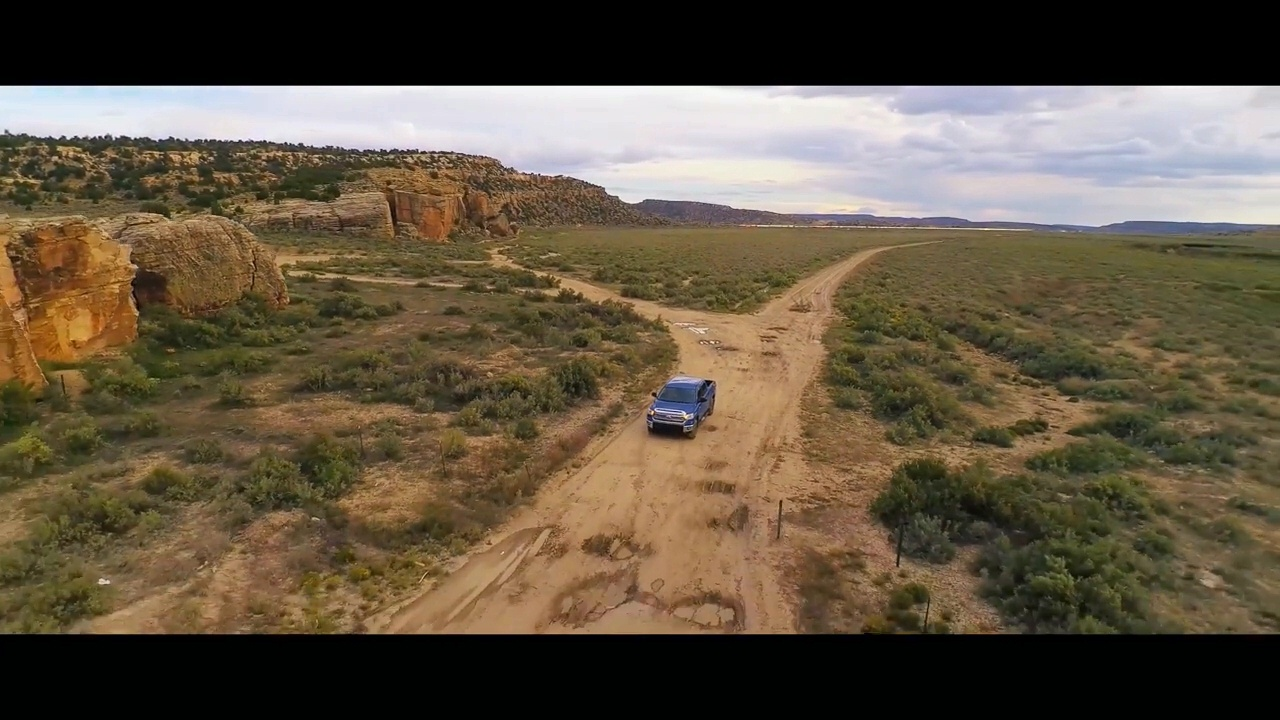kamyonet: (642, 373, 716, 436)
